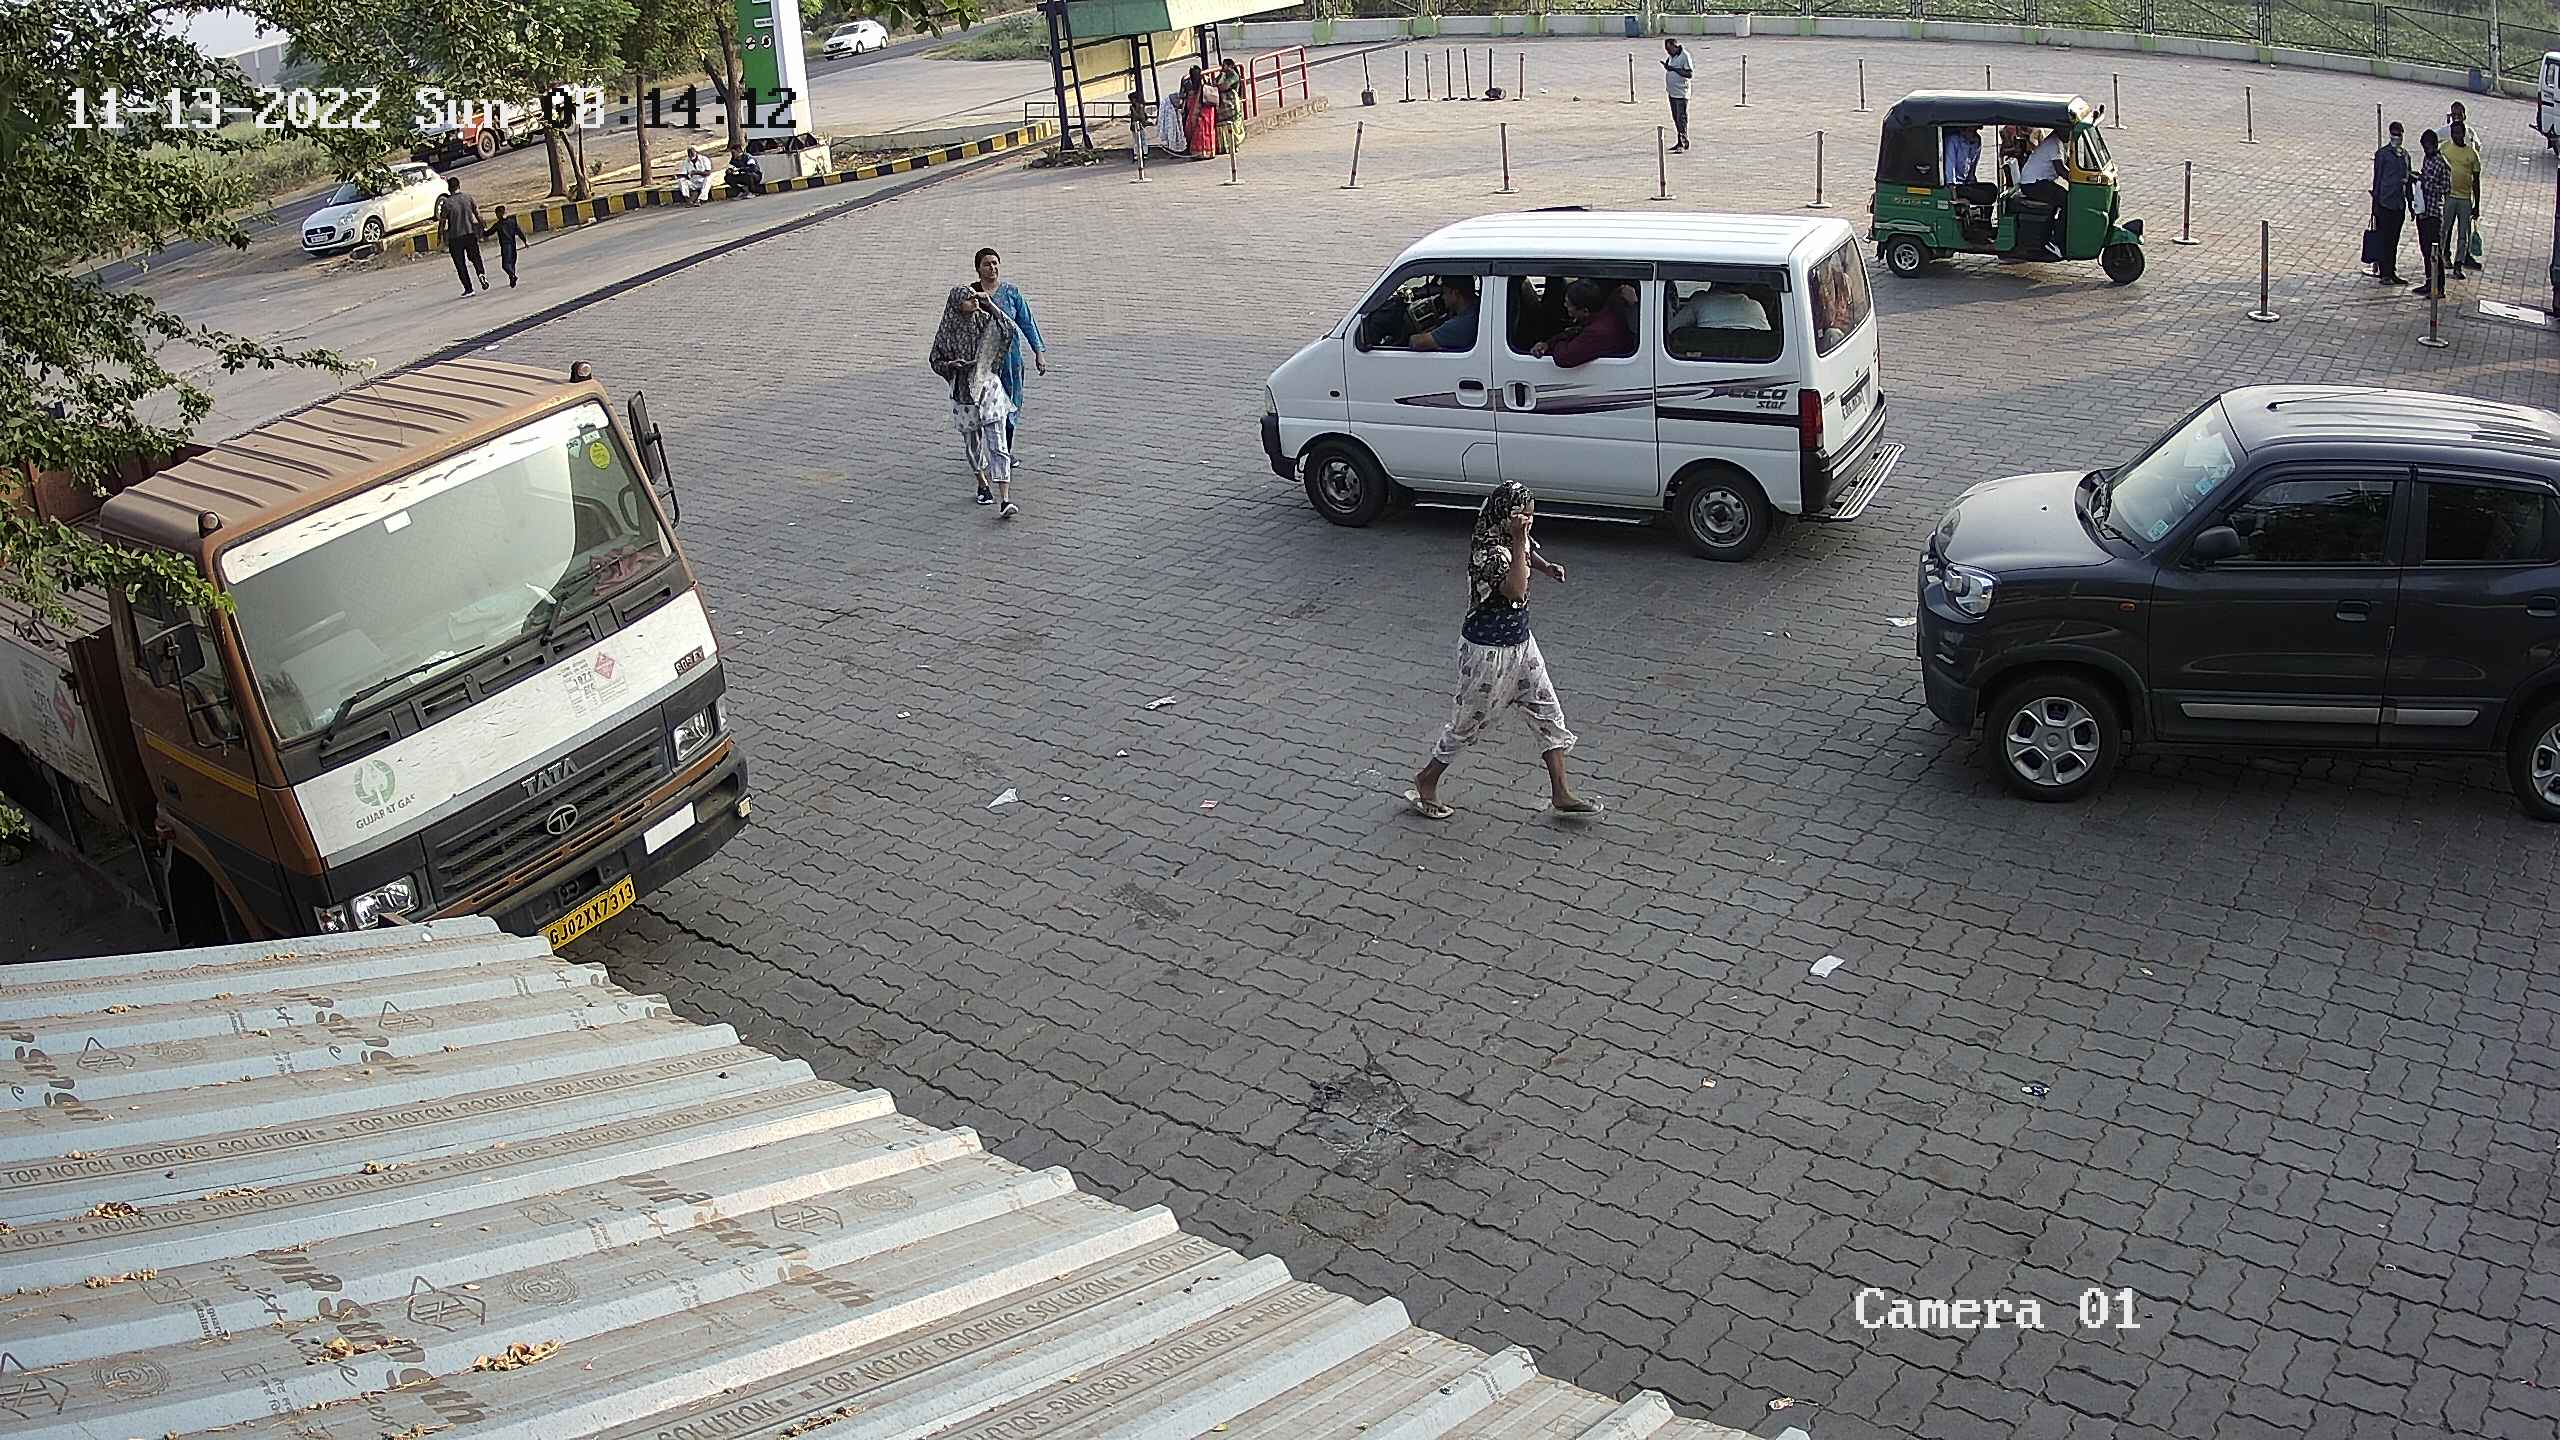Auto: (1860, 74, 2147, 292)
Car: (1915, 360, 2560, 839), (1259, 200, 1874, 556), (288, 149, 480, 269), (2509, 25, 2558, 172), (819, 9, 900, 69)
HMV: (2, 332, 772, 976)
